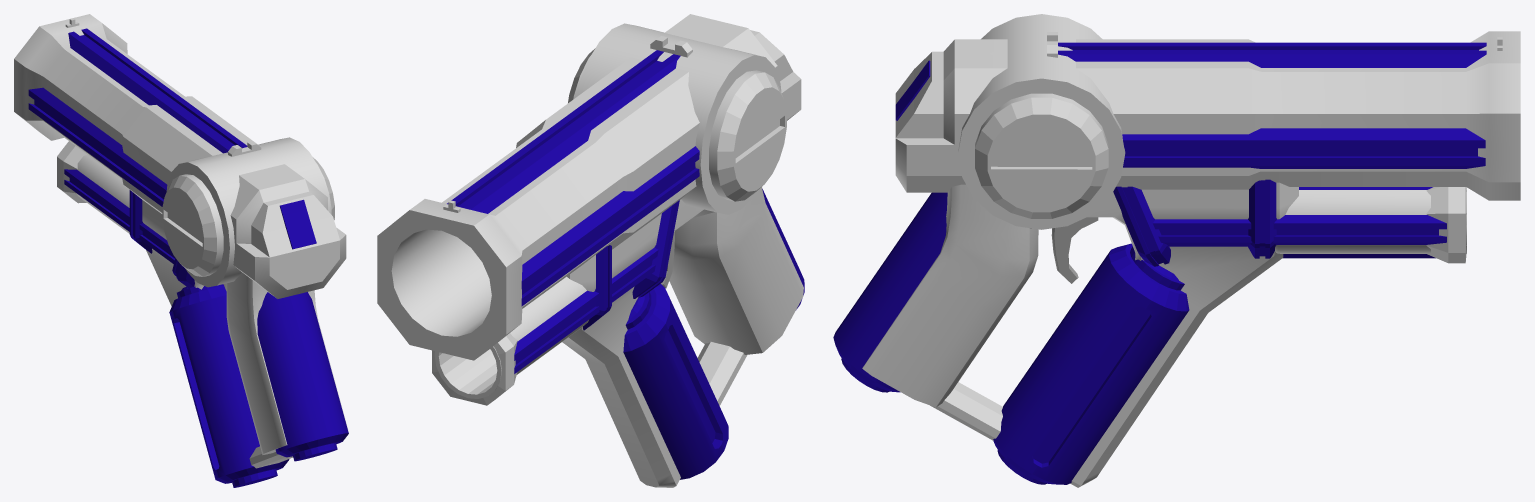
File: GUN_Blue.fbx
3 views of the same model, side by side, from view 1: azimuth 30°, elevation 25°; view 2: azimuth 150°, elevation 25°; view 3: azimuth 270°, elevation 25° (orthographic). The views are drawn at different scales.
Parts seen in each view (by area): view 1: polySurface4; view 2: polySurface4; view 3: polySurface4.
Boxes of the visible parts, x1,y1,x2,y2 form: polySurface4: (14,14,348,487); polySurface4: (377,14,804,487); polySurface4: (833,14,1520,487).
Bounding box in the file's own units: 2.25 × 5.6 × 7.88.
